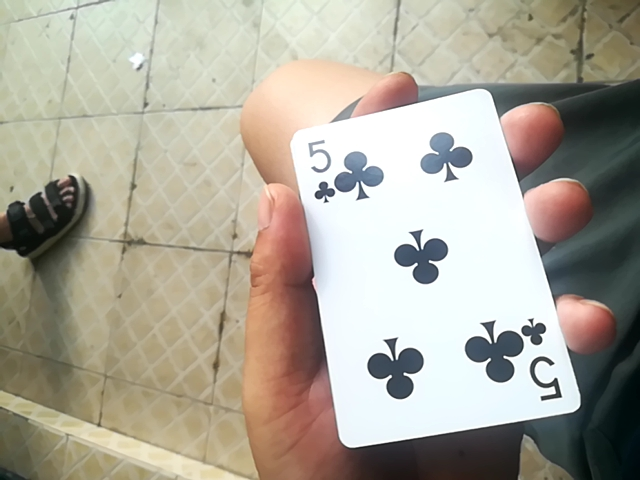mh 5: (301, 80, 588, 455)
